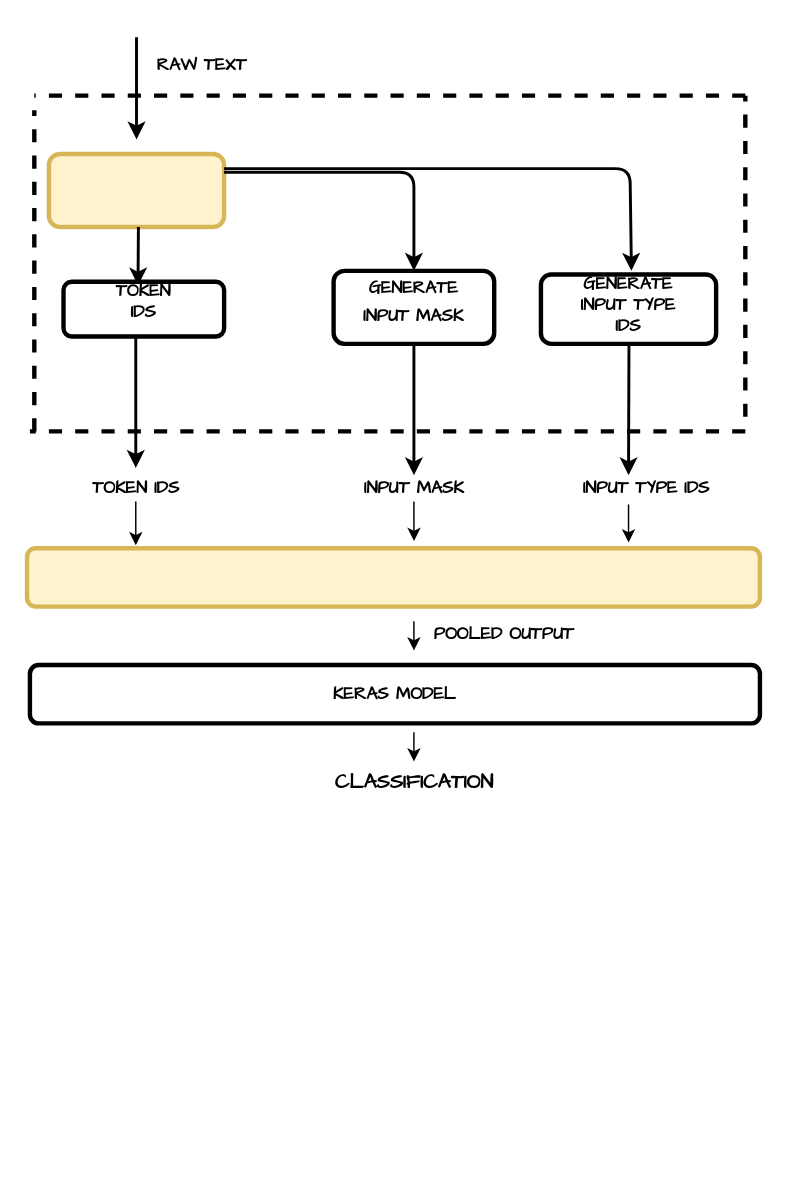
This 787x1183 diagram has some shape labels left out. The centre of each missing label's shape, as x and y in pixels:
"BERT LAYER" belongs at [392,576].
"BERT TOKENIZER" belongs at [136,189].
